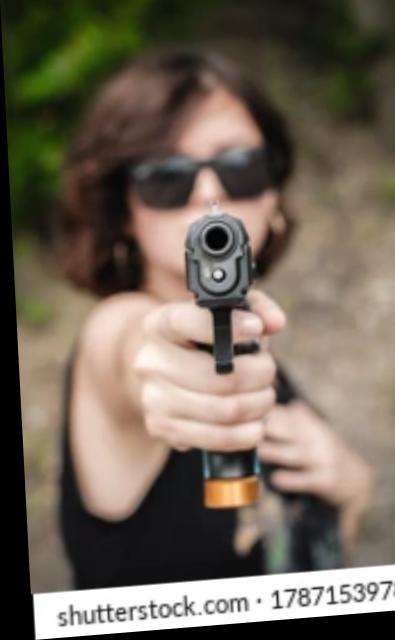other: (37, 73, 344, 582)
